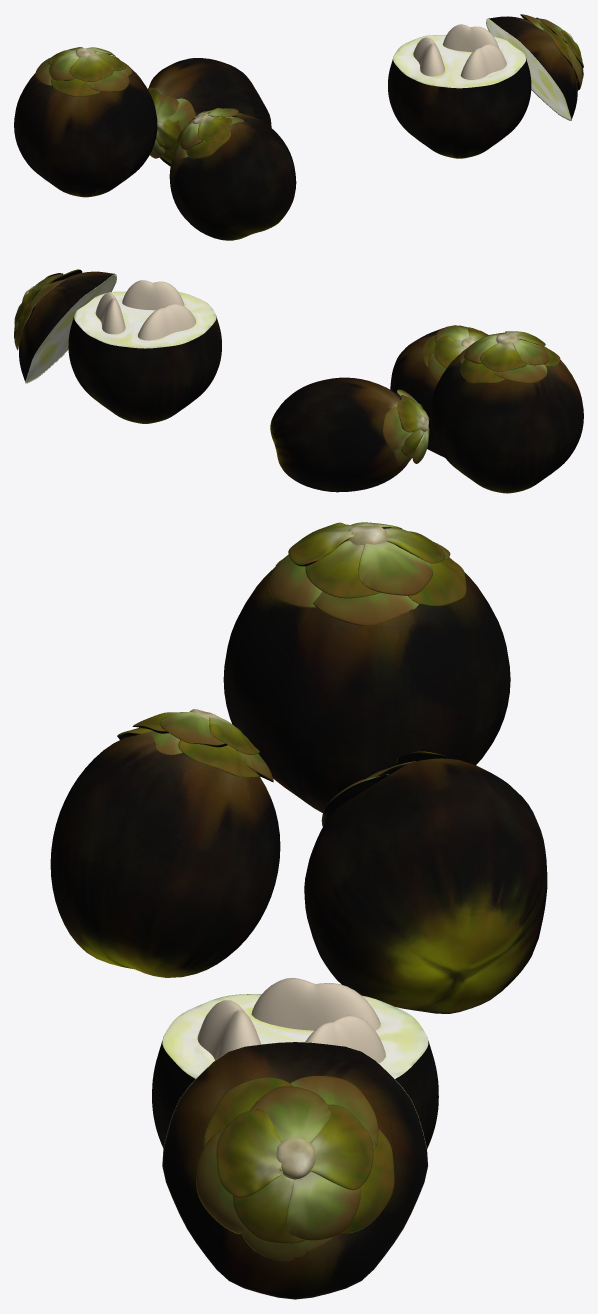
Rendered from palmyra-fruit.glb.
3 renders of one model, top to bottom at view 1: azimuth 30°, elevation 25°; view 2: azimuth 150°, elevation 25°; view 3: azimuth 270°, elevation 25°, orthographic. The views are drawn at different scales.
Visible parts, largest first — view 1: Sphere_Vo_0, Circle.001_la 2_0, Sphere.004_ruot_0, Circle.002_La_0, Sphere.003_Nhan_0; view 2: Sphere_Vo_0, Sphere.004_ruot_0, Circle.001_la 2_0, Circle.002_La_0, Sphere.003_Nhan_0; view 3: Sphere_Vo_0, Circle.001_la 2_0, Circle.002_La_0, Sphere.003_Nhan_0, Sphere.004_ruot_0.
Part boxes in pixels (x1,y1,x2,y2): Sphere_Vo_0: [14, 16, 577, 240]; Circle.001_la 2_0: [48, 17, 583, 163]; Sphere.004_ruot_0: [393, 18, 571, 120]; Circle.002_La_0: [35, 14, 582, 160]; Sphere.003_Nhan_0: [413, 24, 506, 88]; Sphere_Vo_0: [19, 271, 583, 493]; Sphere.004_ruot_0: [25, 274, 216, 383]; Circle.001_la 2_0: [14, 269, 560, 457]; Circle.002_La_0: [14, 273, 548, 465]; Sphere.003_Nhan_0: [95, 280, 196, 340]; Sphere_Vo_0: [50, 526, 547, 1299]; Circle.001_la 2_0: [117, 522, 466, 1243]; Circle.002_La_0: [152, 522, 450, 1261]; Sphere.003_Nhan_0: [197, 978, 385, 1063]; Sphere.004_ruot_0: [162, 994, 428, 1299].
Bounding box in the file's own units: 578 × 180 × 235.
Materials: 5 (4 with a texture image).
